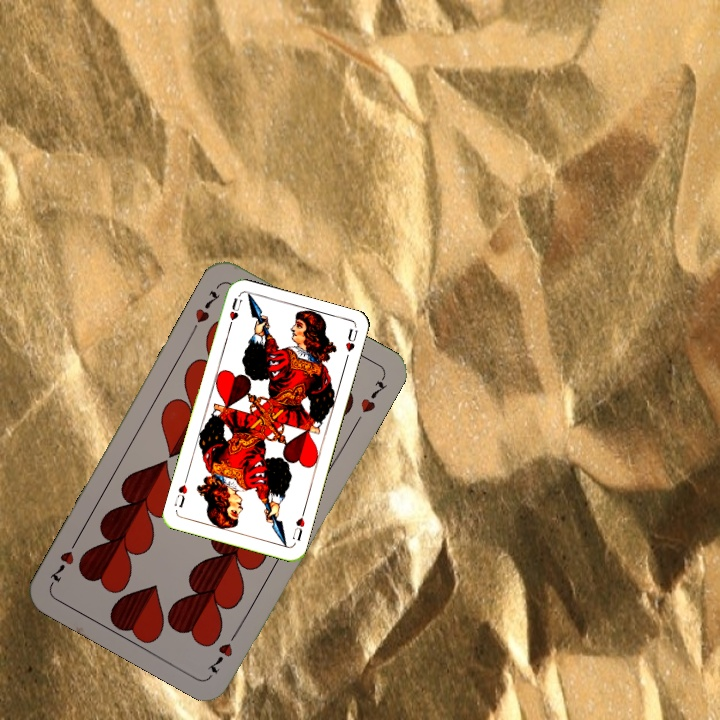H7: (203, 625, 243, 677), (191, 286, 223, 326)
HU: (224, 294, 245, 332), (288, 506, 307, 543)
